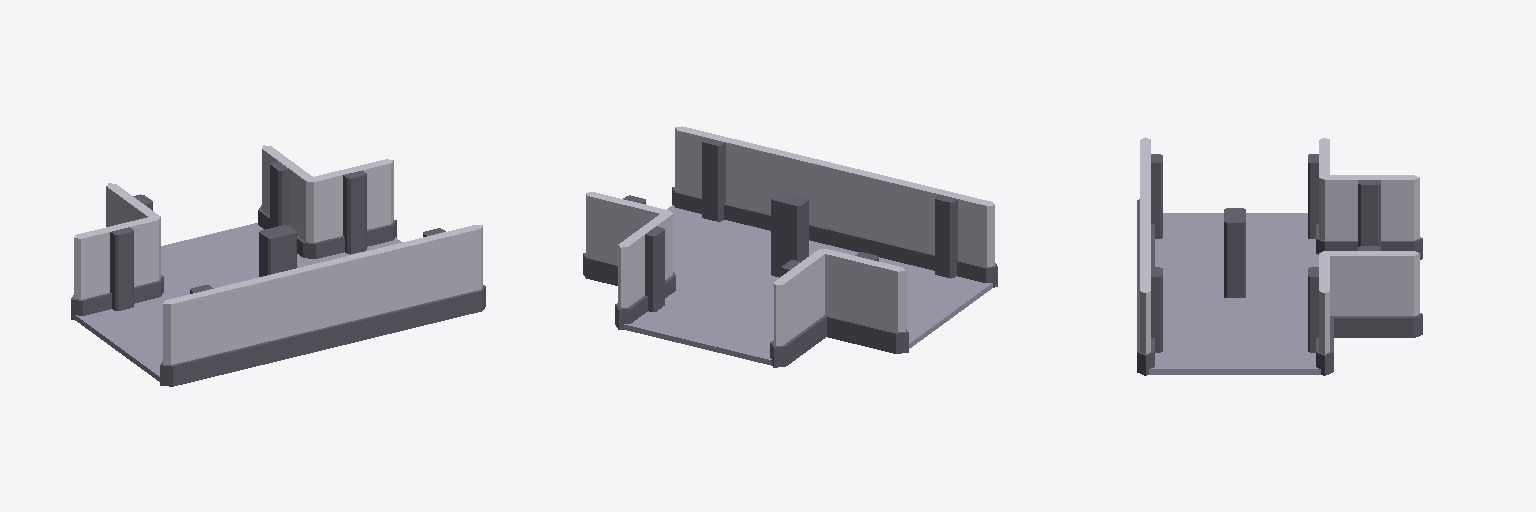
The model's file is intersection_3way_01.obj.
3 views of the same model, side by side, from view 1: azimuth 30°, elevation 25°; view 2: azimuth 150°, elevation 25°; view 3: azimuth 270°, elevation 25° (orthographic).
Visible parts, largest first — view 1: wall_02_8, wall_02_7, wall_02_4, wall_02_9, wall_01_11, wall_01_10, floor_04_3, floor_04_2, wall_02_5, pillar_01_12, wall_02_6, floor_01_0; view 2: wall_02_7, wall_02_8, wall_02_9, wall_01_11, floor_04_3, floor_01_0, wall_02_6, wall_02_5, wall_01_10, wall_02_4, floor_04_2, floor_04_1 (+1 smaller); view 3: floor_01_0, wall_02_5, wall_02_6, floor_04_1, floor_04_2, wall_02_9, wall_02_4, pillar_01_12, wall_02_7, wall_02_8, wall_01_11.
Boxes of the visible parts, <box> form: wall_02_8: <box>160,282,250,386</box>; wall_02_7: <box>71,216,163,319</box>; wall_02_4: <box>303,159,396,258</box>; wall_02_9: <box>397,225,485,329</box>; wall_01_11: <box>243,263,327,367</box>; wall_01_10: <box>318,244,404,348</box>; floor_04_3: <box>161,223,307,290</box>; floor_04_2: <box>75,294,168,381</box>; wall_02_5: <box>258,145,314,256</box>; pillar_01_12: <box>259,225,296,276</box>; wall_02_6: <box>106,183,163,276</box>; floor_01_0: <box>163,258,324,298</box>; wall_02_7: <box>825,249,908,353</box>; wall_02_8: <box>908,183,997,287</box>; wall_02_9: <box>672,126,761,225</box>; wall_01_11: <box>829,164,912,263</box>; floor_04_3: <box>624,293,773,365</box>; floor_01_0: <box>674,225,912,316</box>; wall_02_6: <box>770,249,827,367</box>; wall_02_5: <box>615,212,675,329</box>; wall_01_10: <box>752,146,839,244</box>; wall_02_4: <box>583,192,675,285</box>; floor_04_2: <box>906,266,992,348</box>; floor_04_1: <box>667,205,752,277</box>; floor_01_0: <box>1155,251,1318,330</box>; wall_02_5: <box>1320,246,1422,337</box>; wall_02_6: <box>1316,175,1422,259</box>; floor_04_1: <box>1149,329,1320,374</box>; floor_04_2: <box>1155,213,1317,255</box>; wall_02_9: <box>1137,251,1162,375</box>; wall_02_4: <box>1308,251,1333,375</box>; pillar_01_12: <box>1224,208,1245,297</box>; wall_02_7: <box>1308,138,1329,254</box>; wall_02_8: <box>1137,137,1162,238</box>; wall_01_11: <box>1137,178,1154,277</box>.
Size of the model in its own units: 4.21 by 1 by 3.21.